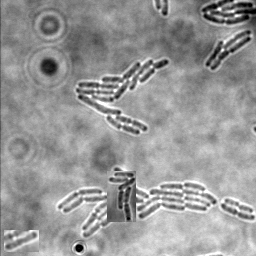Dividing: (219, 204, 255, 222), (223, 199, 253, 215)
Microcolony: (57, 167, 216, 238), (75, 59, 169, 136), (204, 30, 251, 72), (107, 171, 136, 222), (200, 1, 255, 26)
Rod: (4, 230, 39, 252)
